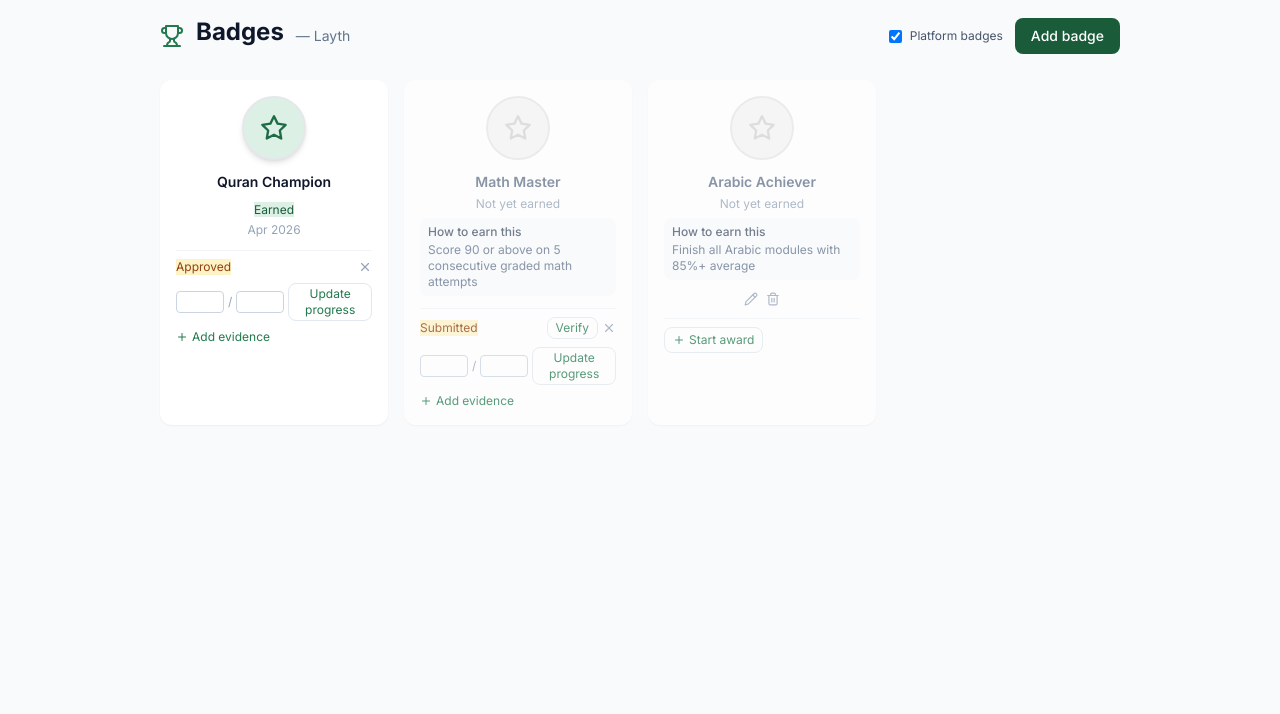
Test: BadgesPage › BadgeDefinitionForm — filling an image URL and saving shows the custom image in the definition list instead of the emblem icon
The image size is (1280, 714).
Click the button "Add badge": coordinates (1067, 36) [1015,18,1120,54]
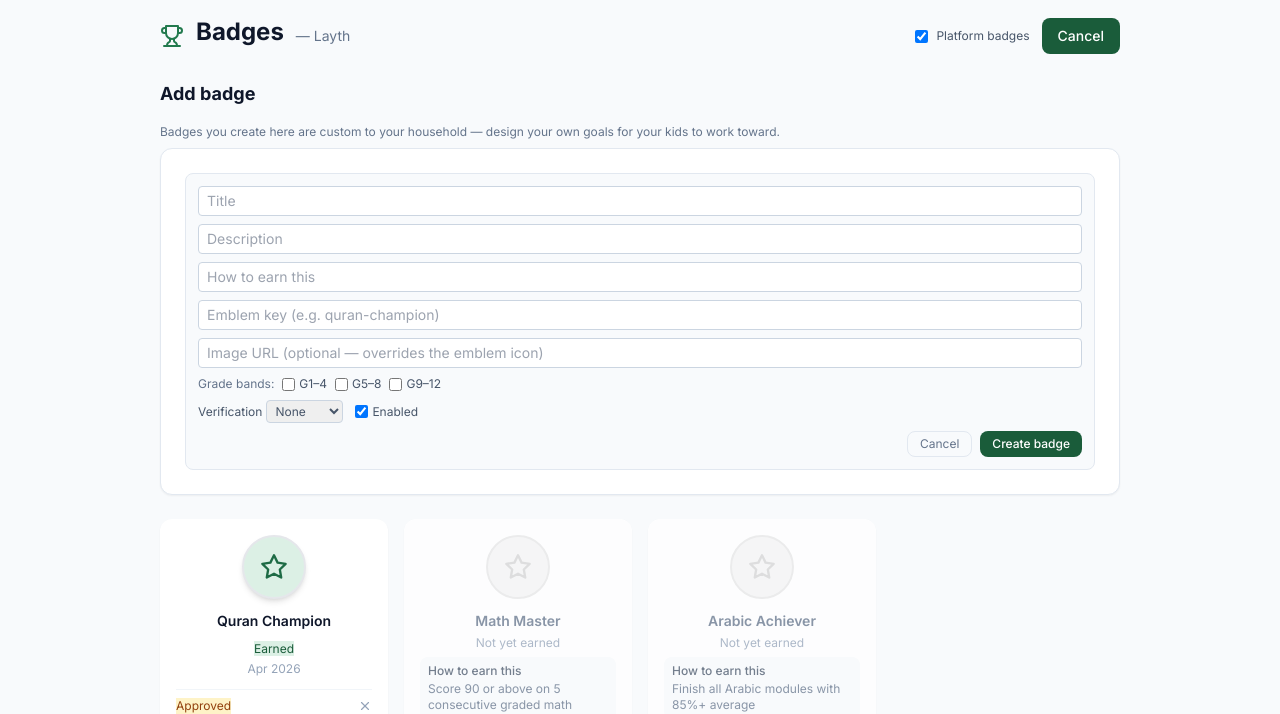
Check: the element with test id "create-badge-form" is shown, box [160,80,1120,495]
In the field named "Badge title": coordinates (640, 201) [198,186,1082,216], type "Image Badge"
In the field named "Badge description": coordinates (640, 239) [198,224,1082,254], type "Has an image"
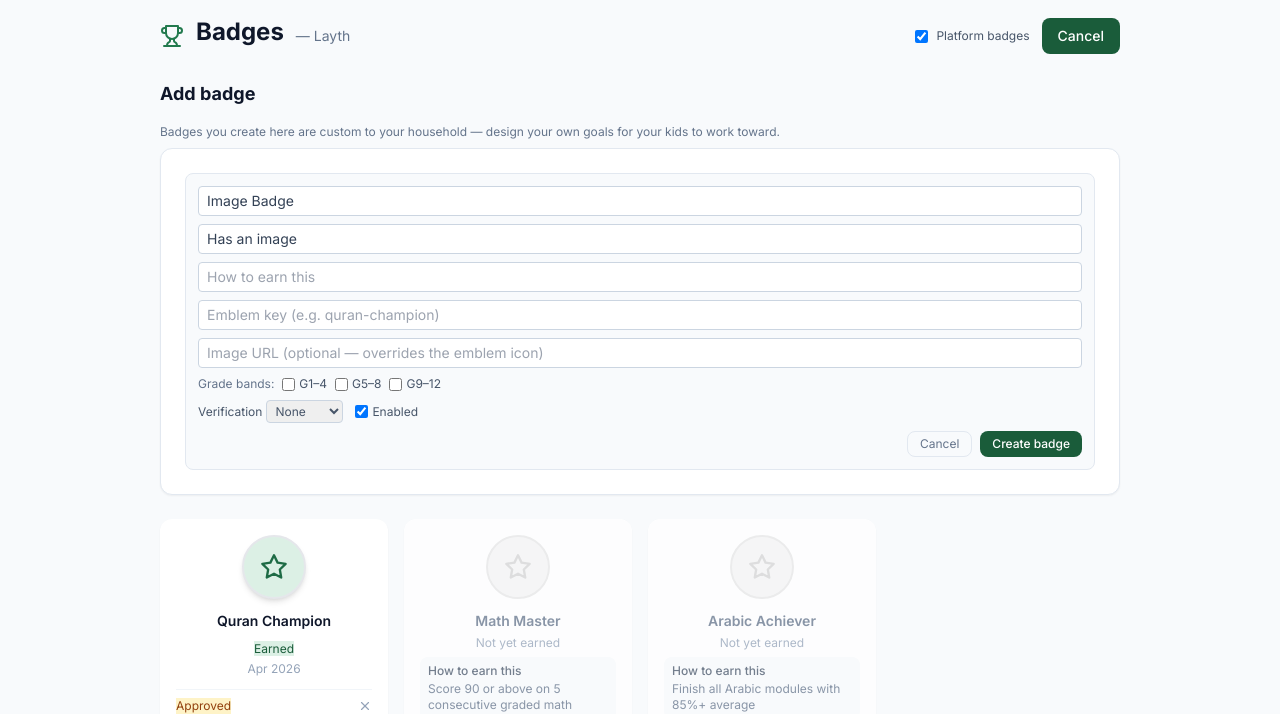
In the field named "Badge criteria": coordinates (640, 277) [198,262,1082,292], type "Do the thing"
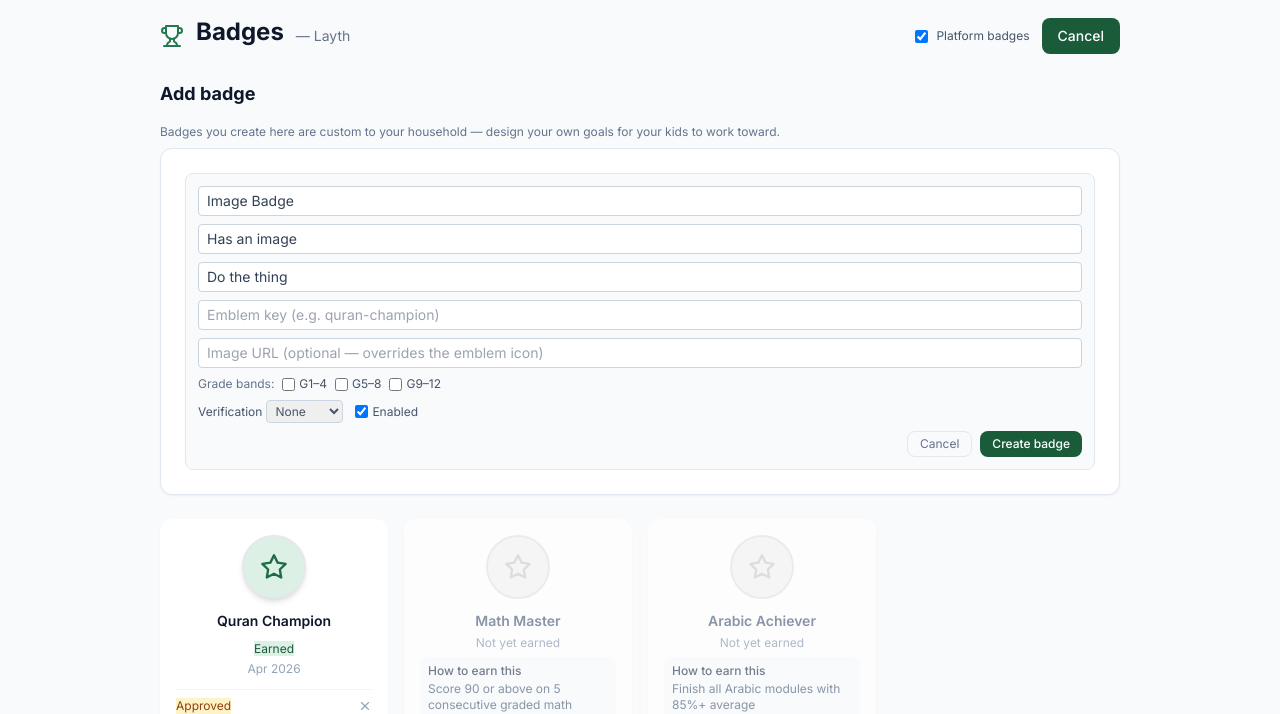
In the field named "Badge emblem key": coordinates (640, 315) [198,300,1082,330], type "image-badge"
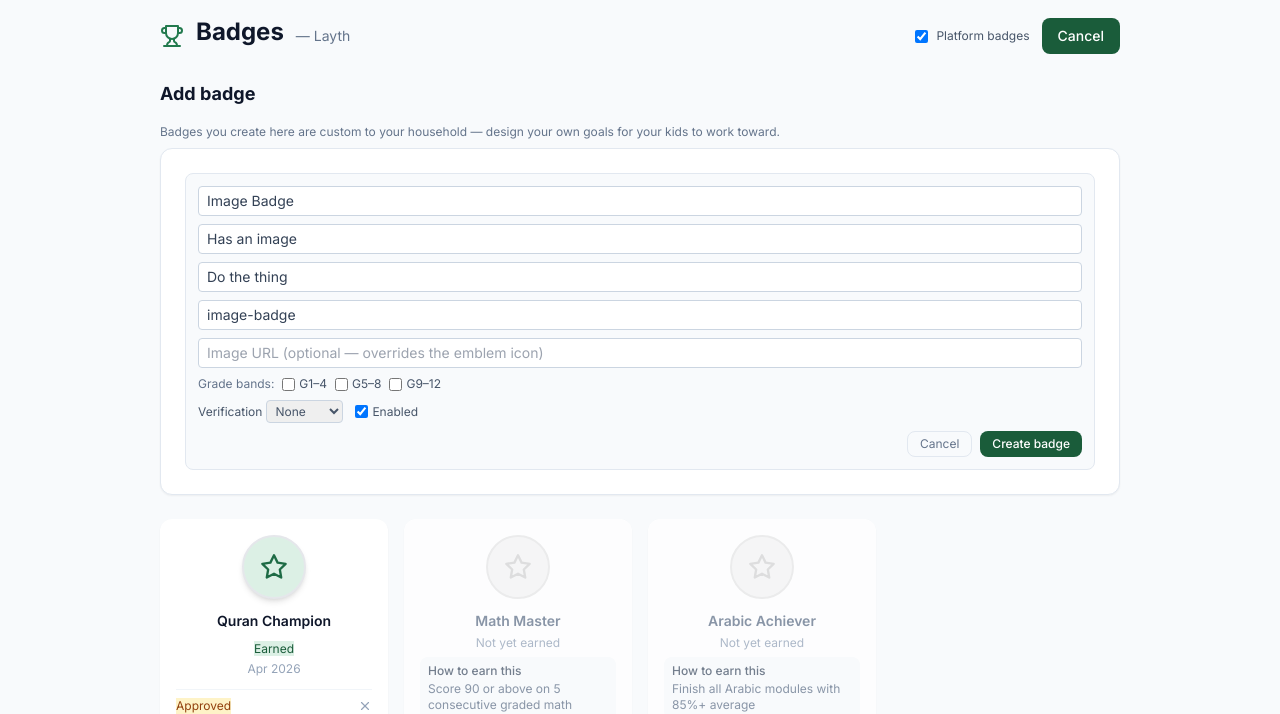
In the field named "Badge image URL": coordinates (640, 353) [198,338,1082,368], type "https://example.com/badge-art.png"
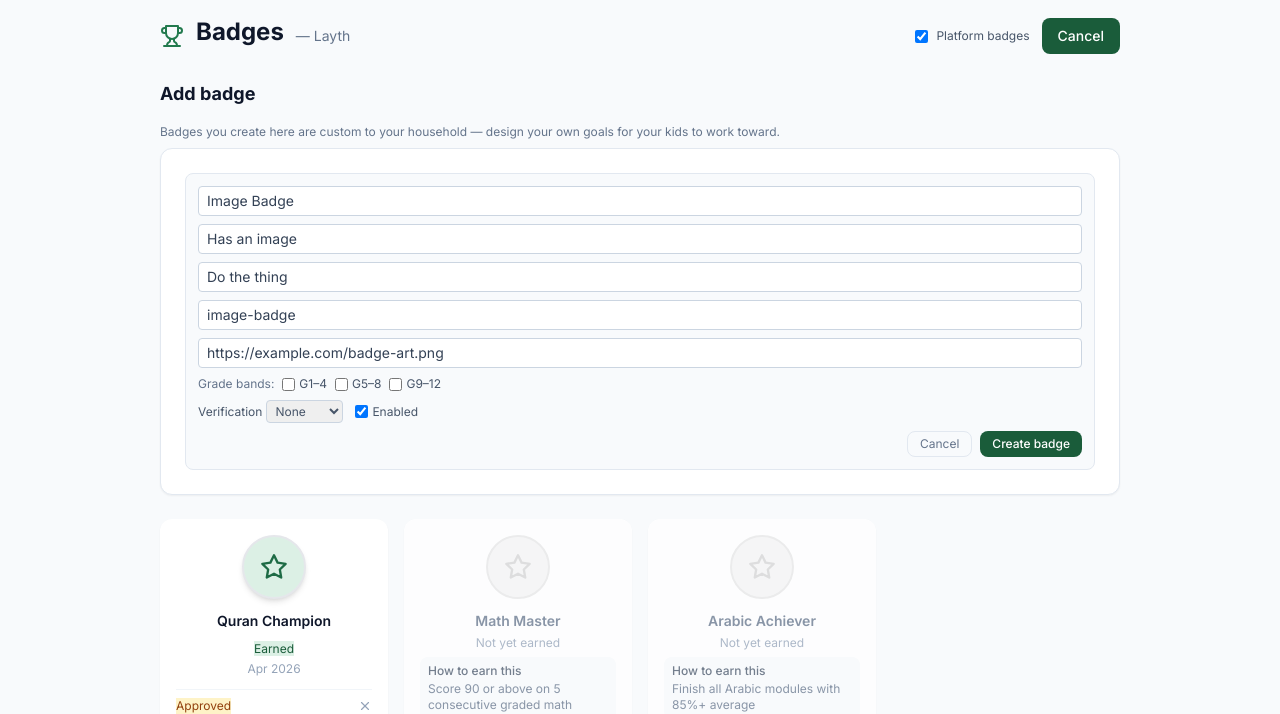
Click the button "Create badge": coordinates (1031, 444) [980,431,1082,457]
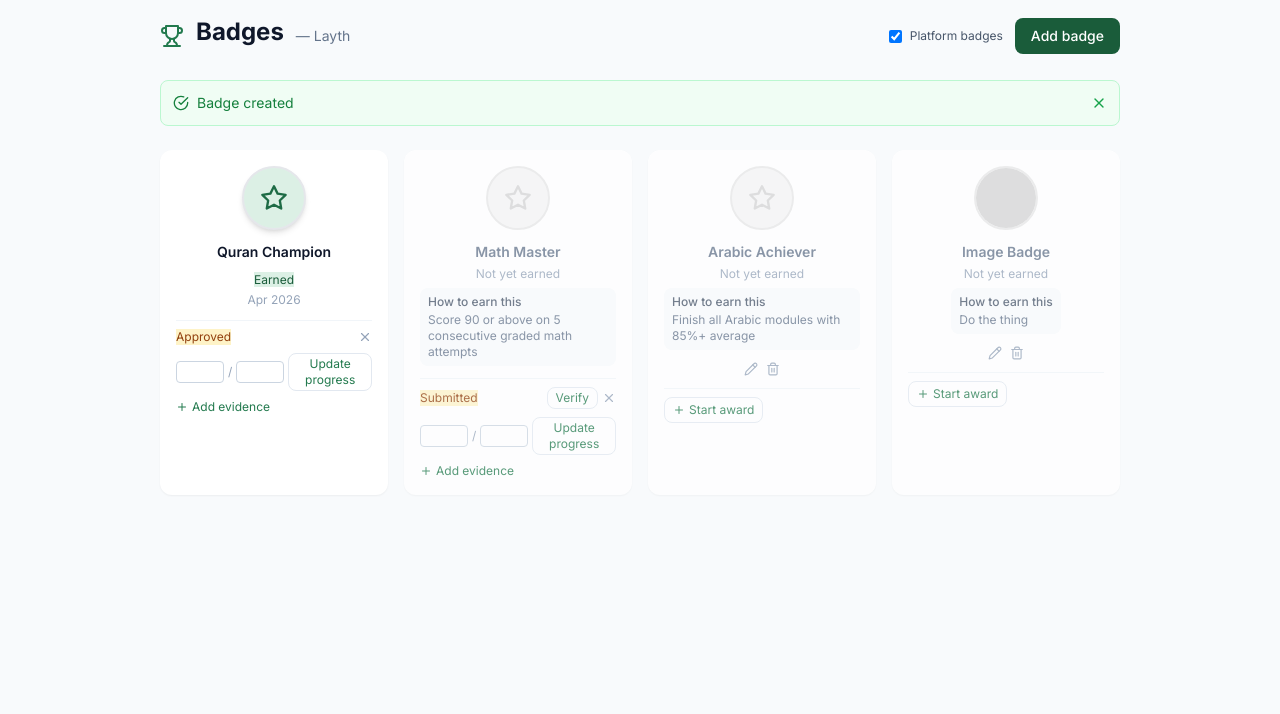
Check: the element with test id "badge-locked-badge_fix_new_img" is shown, box [892,150,1120,495]
